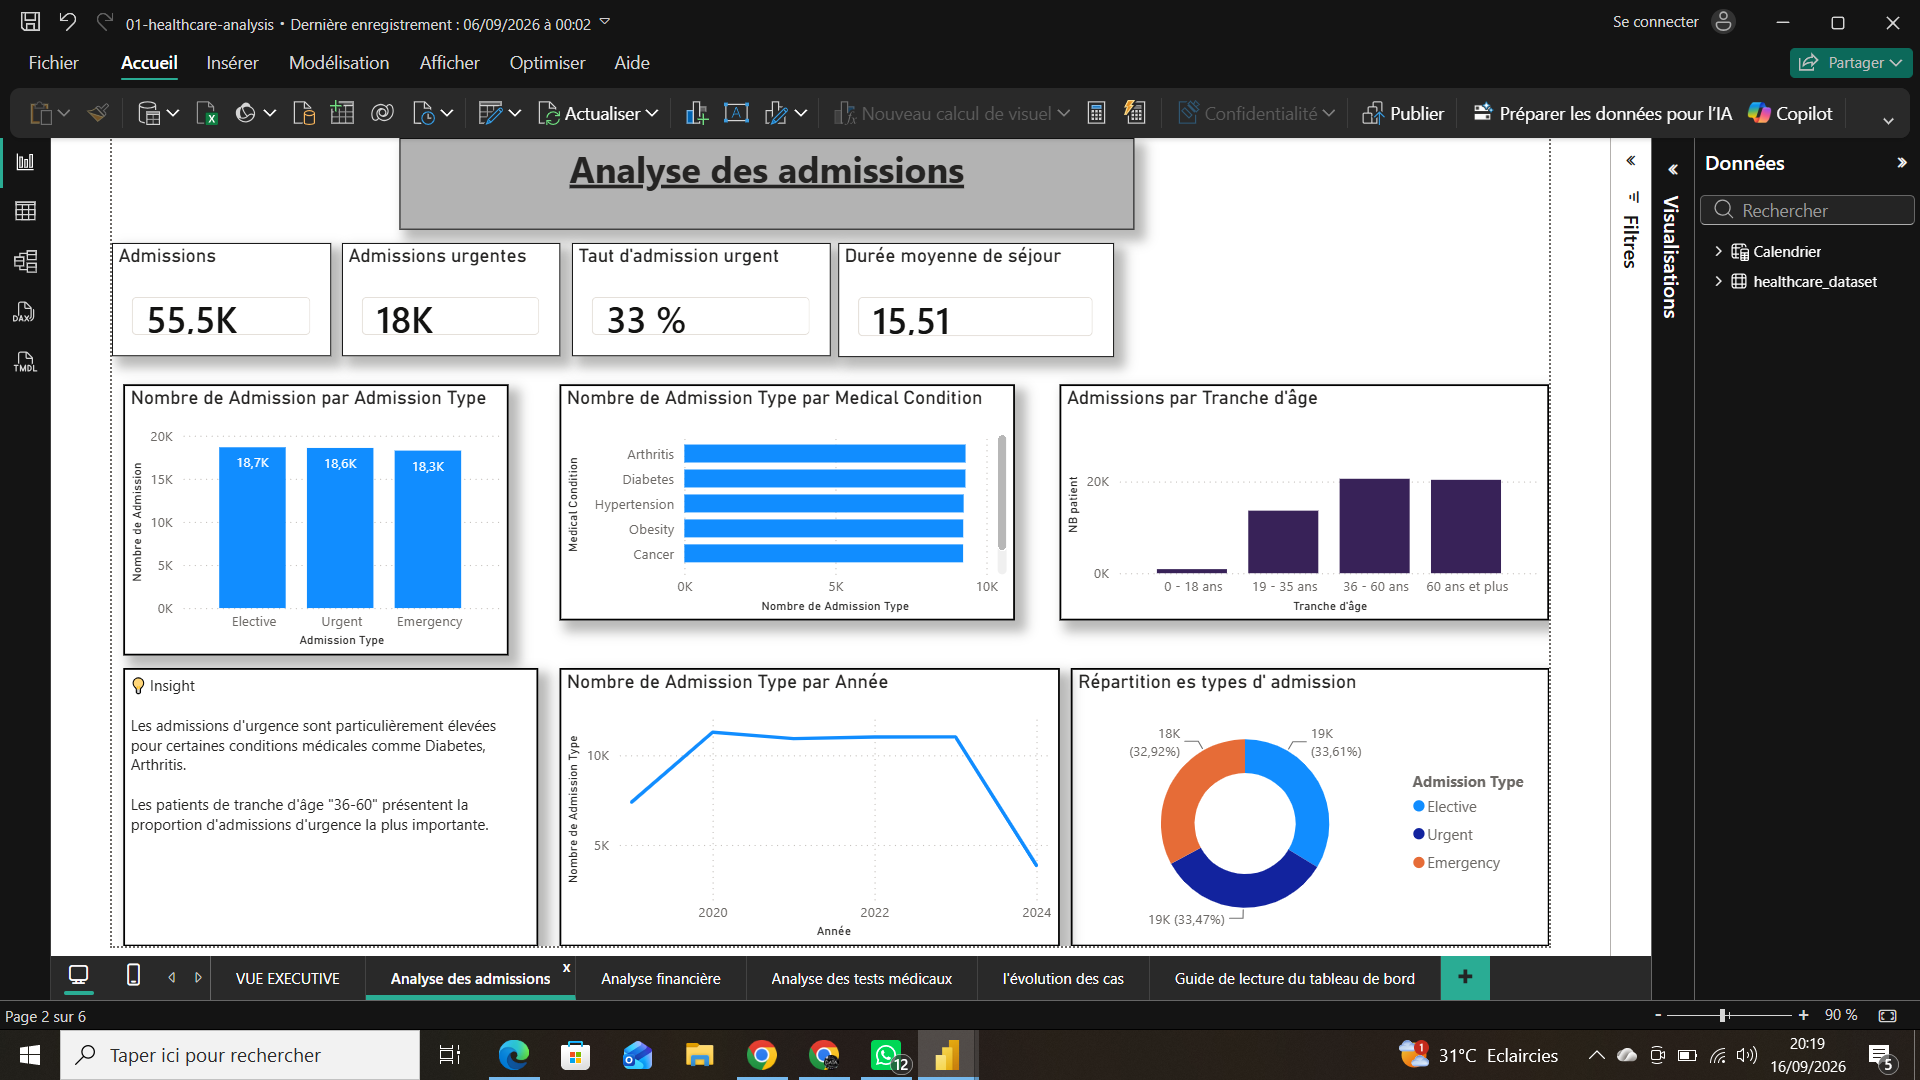

The dashboard page shown, as its layout file describes it:
{"tool":"powerbi","page":{"name":"Analyse des admissions","canvas":[1280,720],"ordinal":1},"visuals":[{"type":"textbox","box":[255.8,0,654.7,81.4],"z":0},{"type":"donutChart","title":"Répartition es types d'' admission","fields":{"Category":["healthcare_dataset.Admission Type"],"Y":["healthcare_dataset.NB patient"]},"box":[853.5,472.1,426.7,247.7],"z":1000},{"type":"cardVisual","title":"Admissions","fields":{"Data":["CountNonNull(healthcare_dataset.Date of Admission)"]},"box":[0,93,195.3,101.2],"z":2000},{"type":"cardVisual","title":"Admissions urgentes","fields":{"Data":["healthcare_dataset.Admissions urgence"]},"box":[204.7,93,194.2,101.2],"z":3000},{"type":"cardVisual","title":"Taut d''admission urgent","fields":{"Data":["healthcare_dataset.Taux admissions urgence"]},"box":[409.3,93,230.2,101.2],"z":4000},{"type":"clusteredColumnChart","fields":{"Category":["healthcare_dataset.Admission Type"],"Y":["CountNonNull(healthcare_dataset.Admission Type)"]},"box":[10.5,219.8,343.1,241.5],"z":5000},{"type":"lineChart","fields":{"Y":["CountNonNull(healthcare_dataset.Admission Type)"],"Category":["Calendrier.Année"]},"box":[398.8,472.1,445.4,247.7],"z":6000},{"type":"clusteredColumnChart","title":"Admissions par Tranche d''âge","fields":{"Category":["healthcare_dataset.Tranche d'âge"],"Y":["healthcare_dataset.NB patient"]},"box":[844.2,219.8,436,210.5],"z":7000},{"type":"cardVisual","title":"Durée moyenne de séjour","fields":{"Data":["healthcare_dataset.Duree moyenne de sejour"]},"box":[646.5,93,245.6,101.5],"z":8000},{"type":"clusteredBarChart","fields":{"Y":["CountNonNull(healthcare_dataset.Admission Type)"],"Category":["healthcare_dataset.Medical Condition"]},"box":[398.8,219.8,405.8,210.5],"z":9000},{"type":"textbox","box":[10.5,472.1,369.8,247.7],"z":11000}]}

Visuals, with their boxes on the page's 1280x720 design canvas (x1, y1, x2, y2). These are canvas units, not pixel positions in the 1920x1080 screenshot, which may show the page scaled, cropped or inside an application window:
textbox: locate(256, 0, 910, 81)
"Répartition es types d'' admission" donutChart: locate(854, 472, 1280, 720)
"Admissions" cardVisual: locate(0, 93, 195, 194)
"Admissions urgentes" cardVisual: locate(205, 93, 399, 194)
"Taut d''admission urgent" cardVisual: locate(409, 93, 640, 194)
clusteredColumnChart - healthcare_dataset.Admission Type x CountNonNull(healthcare_dataset.Admission Type): locate(10, 220, 354, 461)
lineChart - CountNonNull(healthcare_dataset.Admission Type) x Calendrier.Année: locate(399, 472, 844, 720)
"Admissions par Tranche d''âge" clusteredColumnChart: locate(844, 220, 1280, 430)
"Durée moyenne de séjour" cardVisual: locate(646, 93, 892, 194)
clusteredBarChart - CountNonNull(healthcare_dataset.Admission Type) x healthcare_dataset.Medical Condition: locate(399, 220, 805, 430)
textbox: locate(10, 472, 380, 720)
